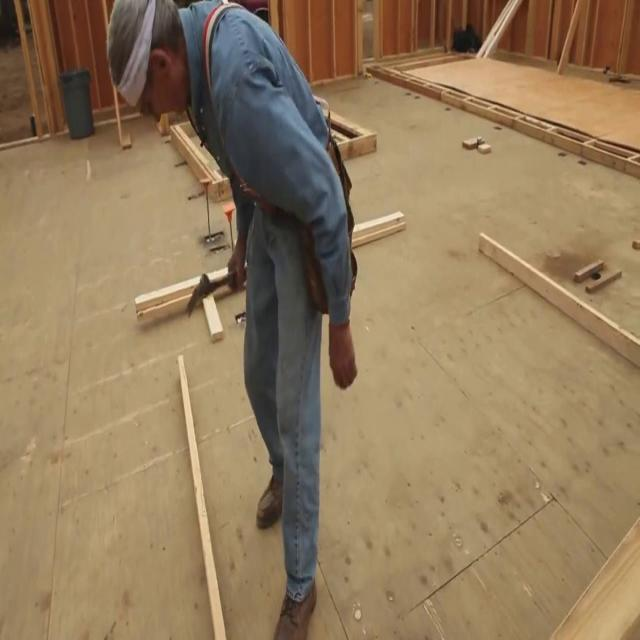hammer: (188, 269, 236, 316)
